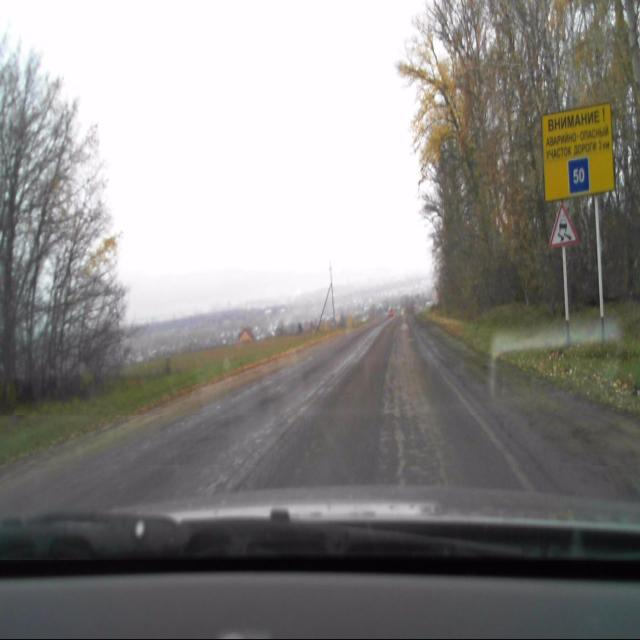road sign: (548, 204, 575, 247), (569, 158, 590, 193)
